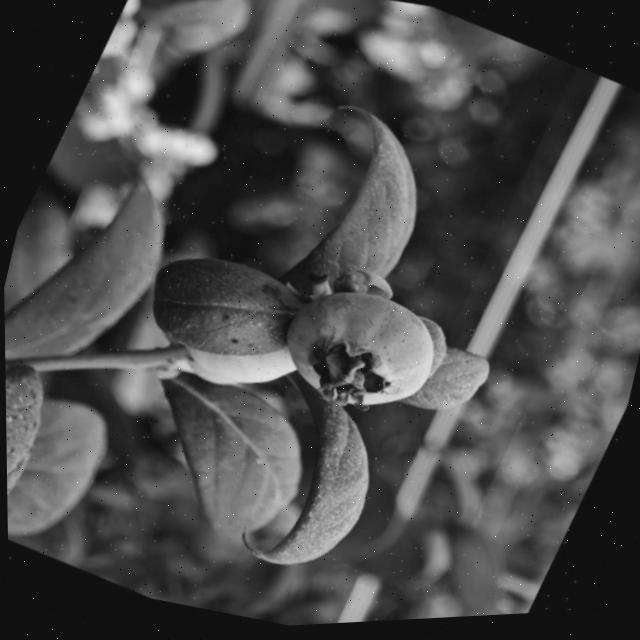Semi-RipeBlueBerry: (252, 252, 463, 452)
